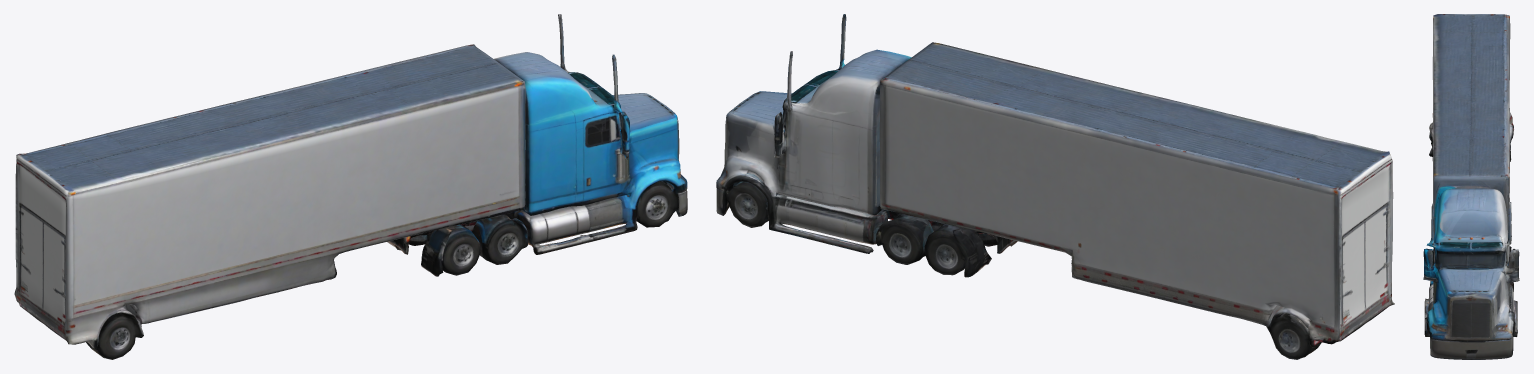
Rendered from truck.glb.
3 views of the same model, side by side, from view 1: azimuth 30°, elevation 25°; view 2: azimuth 150°, elevation 25°; view 3: azimuth 270°, elevation 25° (orthographic). The views are drawn at different scales.
Size of the model in its own units: 2 by 0.568 by 0.3674.
Materials: 1 (1 with a texture image).
